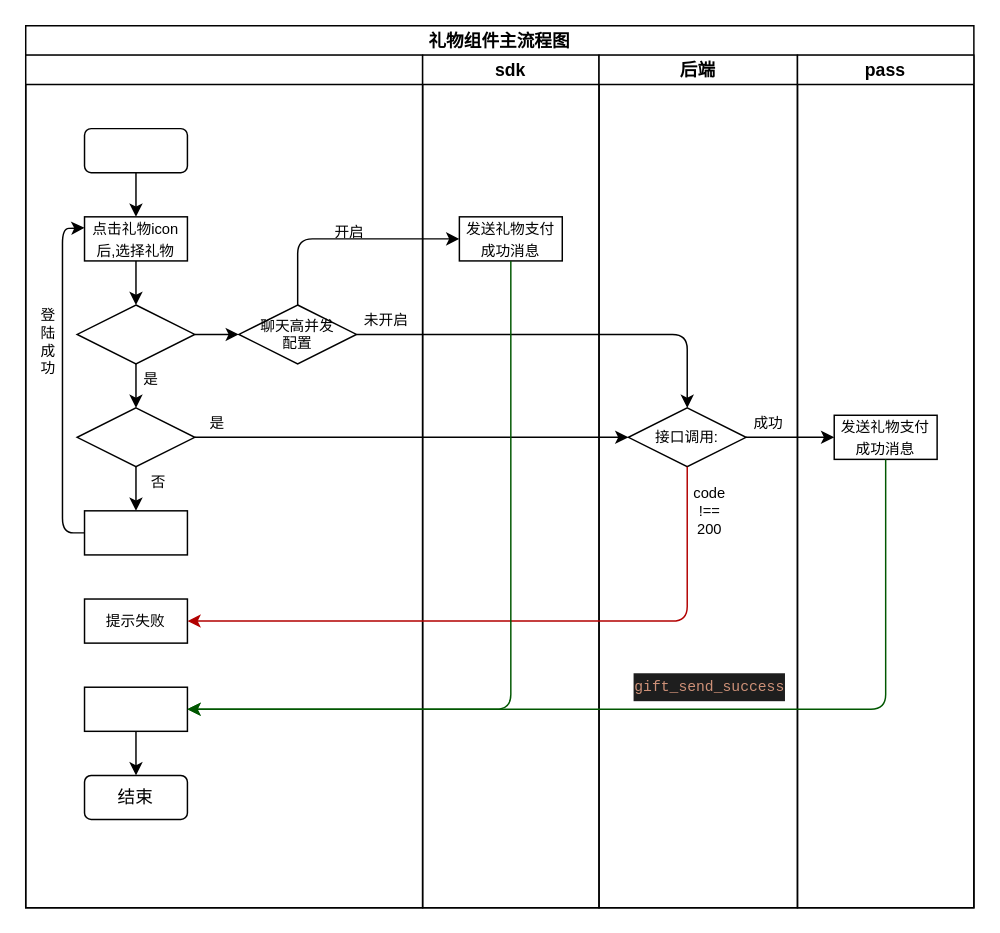
Image size: 1000x933. Some labels were removed from this diagram. The box of each missing label's shape, as (x1, y1, x2, y2) in pixels:
wap: (24, 54, 423, 908)
开始: (83, 127, 187, 173)
提示成功并关闭礼物面板: (83, 686, 187, 731)
是否付费: (76, 304, 195, 364)
是否登陆: (76, 406, 195, 467)
登陆相关流程: (83, 509, 187, 555)
